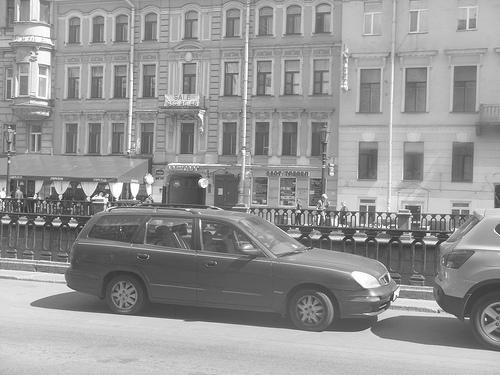car: (66, 212, 398, 333)
